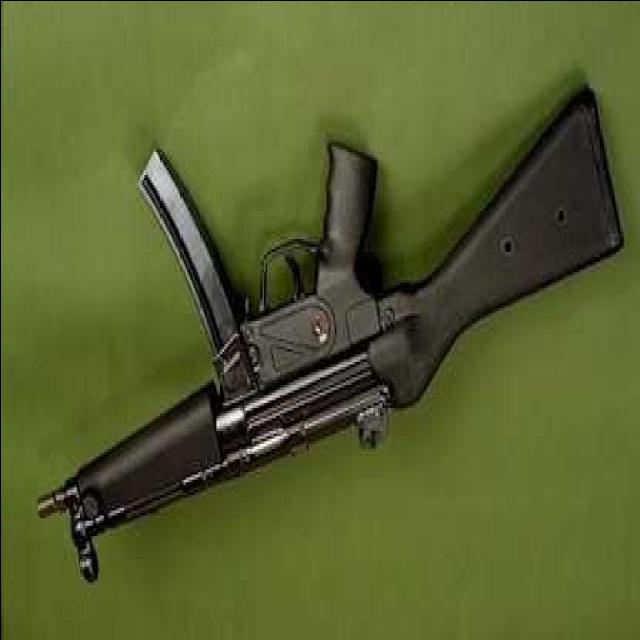heavyweapon: (13, 40, 629, 590)
